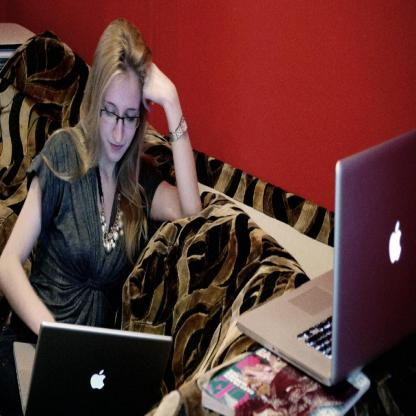board: (238, 132, 416, 387), (27, 322, 160, 411)
